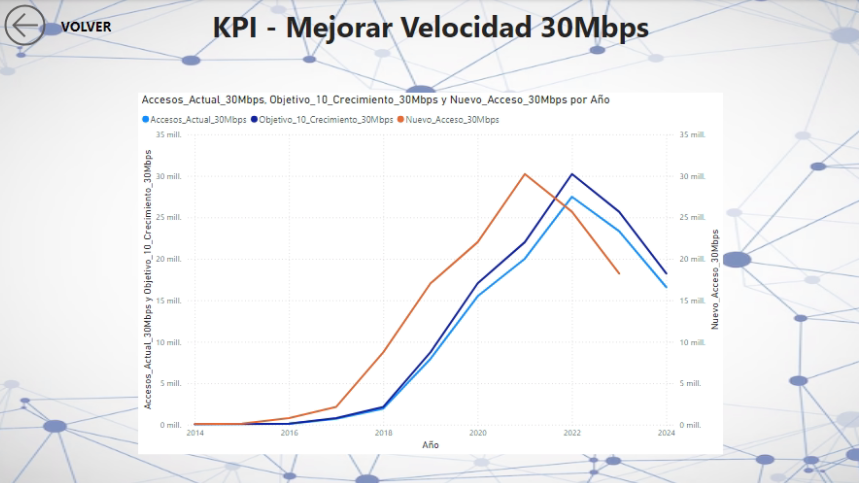

What the dashboard file says about the page in this screenshot:
{"tool":"powerbi","page":{"name":"KPI_Velocidades","canvas":[1280,720],"ordinal":7},"visuals":[{"type":"lineChart","fields":{"Category":["Accesos por velocidad.Año"],"Y":["Accesos por velocidad.Accesos_Actual_30Mbps","Accesos por velocidad.Objetivo_10_Crecimiento_30Mbps"],"Y2":["Accesos por velocidad.Nuevo_Acceso_30Mbps"]},"box":[205.9,138.2,866.9,535.7],"z":0},{"type":"actionButton","box":[0,0,169.9,76.3],"z":1000},{"type":"textbox","box":[260.6,5.8,757.4,69.1],"z":2000}]}

Visuals, with their boxes in screenshot pixels (x1, y1, x2, y2), scaled from the page's 1280x720 canvas onto the 859x483 screenshot:
lineChart - Accesos por velocidad.Año x Accesos por velocidad.Accesos_Actual_30Mbps: select_region(138, 93, 720, 452)
actionButton: select_region(0, 0, 114, 51)
textbox: select_region(175, 4, 683, 50)
